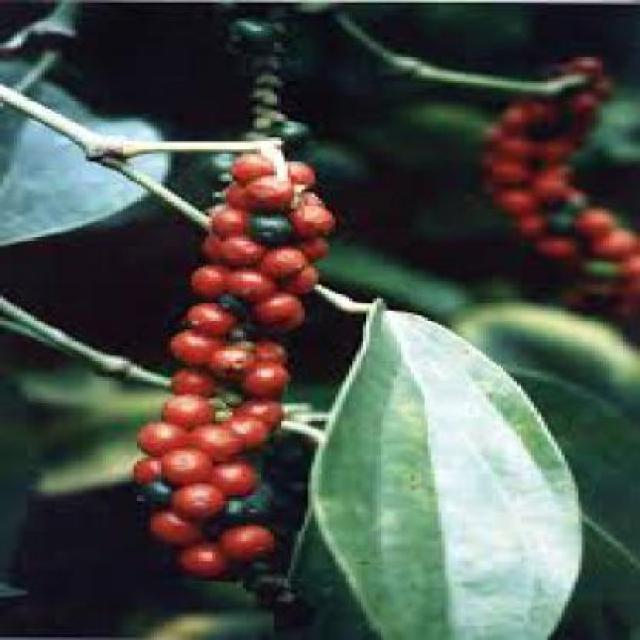RIPE: (131, 140, 329, 575), (483, 57, 637, 306)
